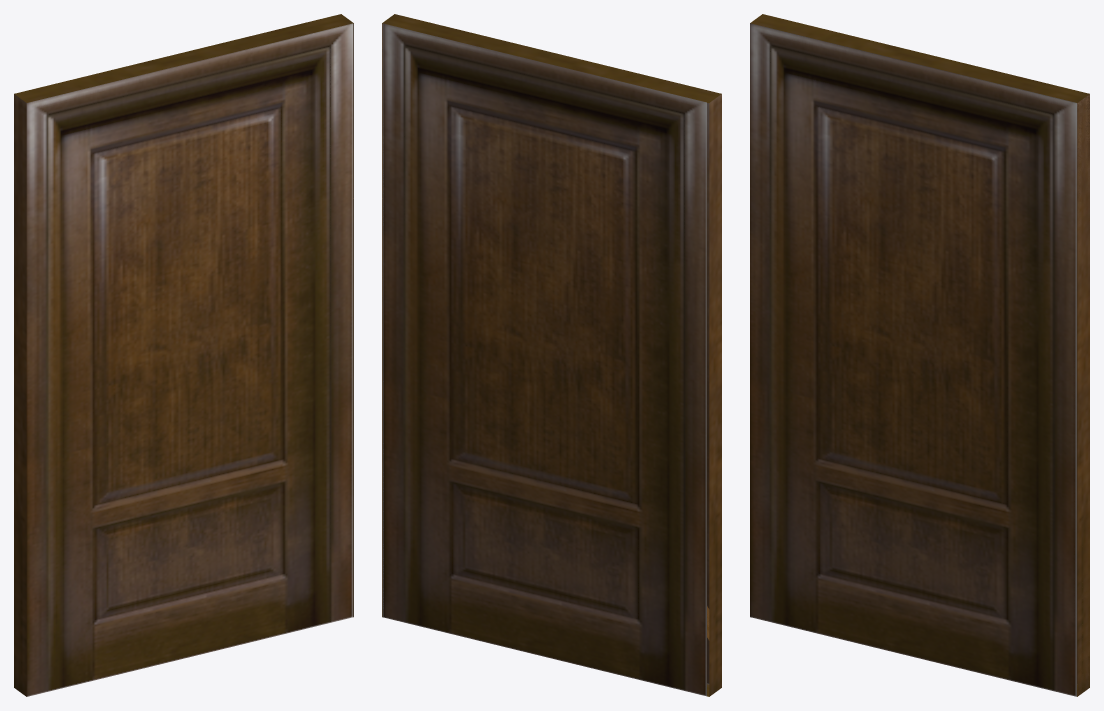
The model's file is Door.fbx.
The picture shows the model from 3 angles, left to right: view 1: azimuth 30°, elevation 25°; view 2: azimuth 150°, elevation 25°; view 3: azimuth 330°, elevation 25°; orthographic projection.
Visible parts, largest first — view 1: Door, DoorDestrLeft, DoorDestrRight, DoorDestrUp, DoorDestrDown; view 2: Door, DoorDestrRight, DoorDestrUp, DoorDestrLeft, DoorDestrDown; view 3: Door, DoorDestrUp, DoorDestrLeft, DoorDestrRight, DoorDestrDown.
Part boxes in pixels (x1,y1,x2,y2): Door: [14, 23, 353, 696]; DoorDestrLeft: [14, 84, 200, 636]; DoorDestrRight: [202, 198, 353, 638]; DoorDestrUp: [52, 14, 353, 331]; DoorDestrDown: [14, 332, 221, 695]; Door: [382, 23, 721, 696]; DoorDestrRight: [382, 198, 532, 646]; DoorDestrUp: [382, 14, 683, 324]; DoorDestrLeft: [541, 84, 721, 640]; DoorDestrDown: [508, 345, 721, 696]; Door: [750, 23, 1089, 696]; DoorDestrUp: [788, 23, 1089, 336]; DoorDestrLeft: [750, 14, 924, 560]; DoorDestrRight: [925, 278, 1089, 696]; DoorDestrDown: [750, 337, 951, 665].
Bounding box in the file's own units: 150 × 260 × 10.
Materials: 1 (1 with a texture image).
